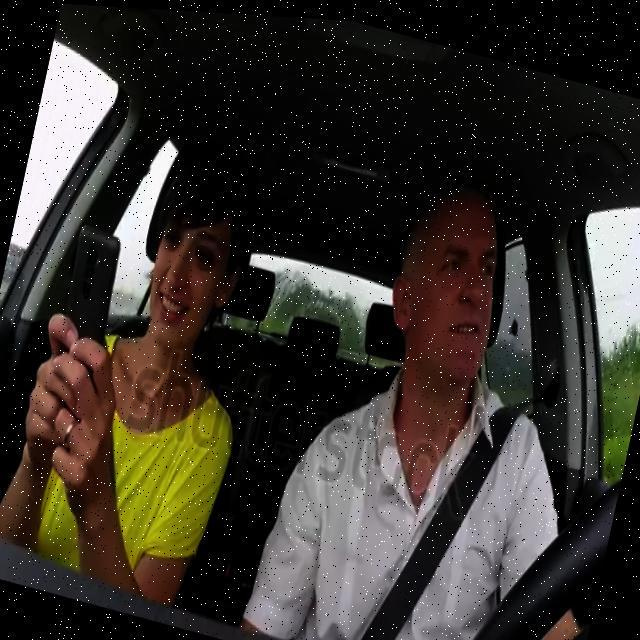PhoneCall: (49, 225, 122, 384)
